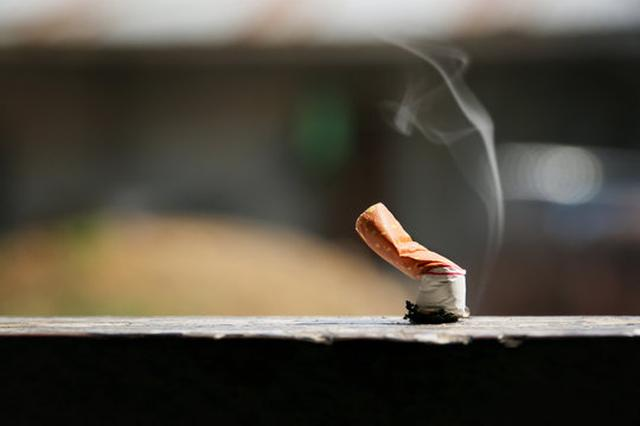Cigarette: (353, 200, 469, 321)
